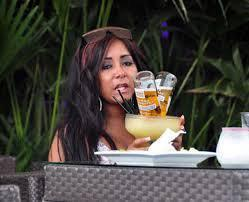Drunk: (97, 42, 135, 102)
